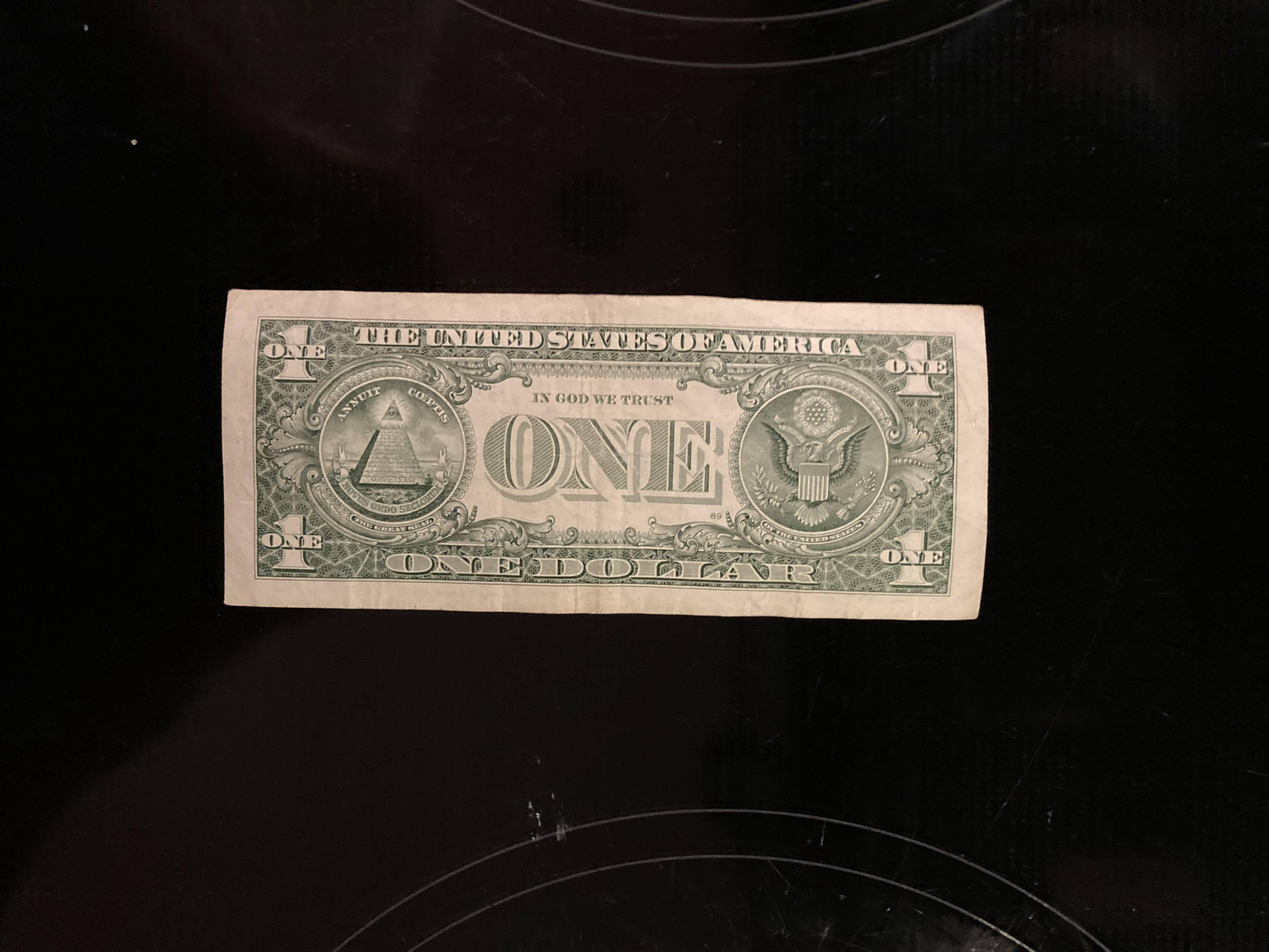one-back: (218, 289, 991, 622)
